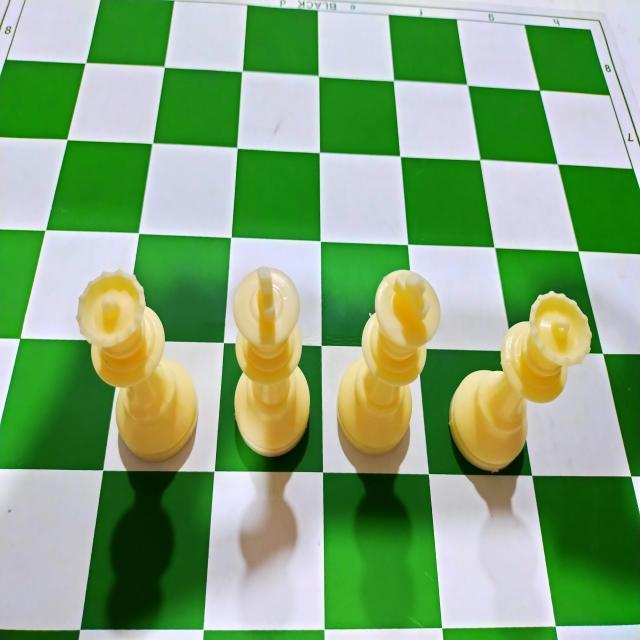white-king: (334, 268, 442, 456), (229, 265, 314, 458)
white-queen: (449, 292, 592, 472), (75, 270, 200, 460)
